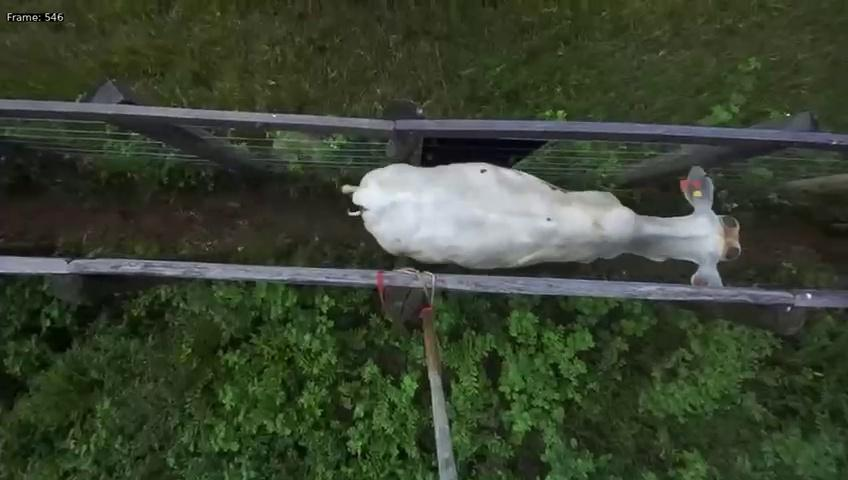cattle: (339, 155, 744, 287)
